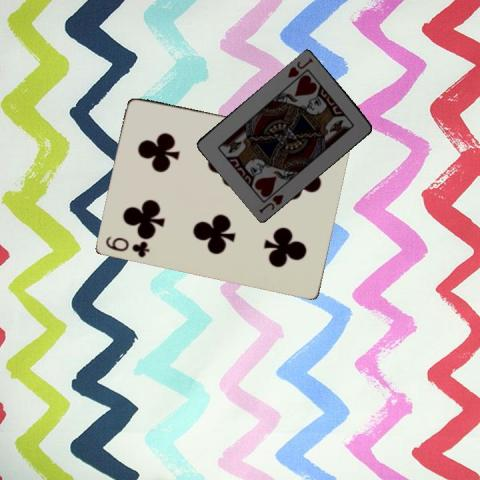6c: (103, 233, 151, 259)
Jh: (284, 54, 314, 79), (256, 190, 285, 214)
